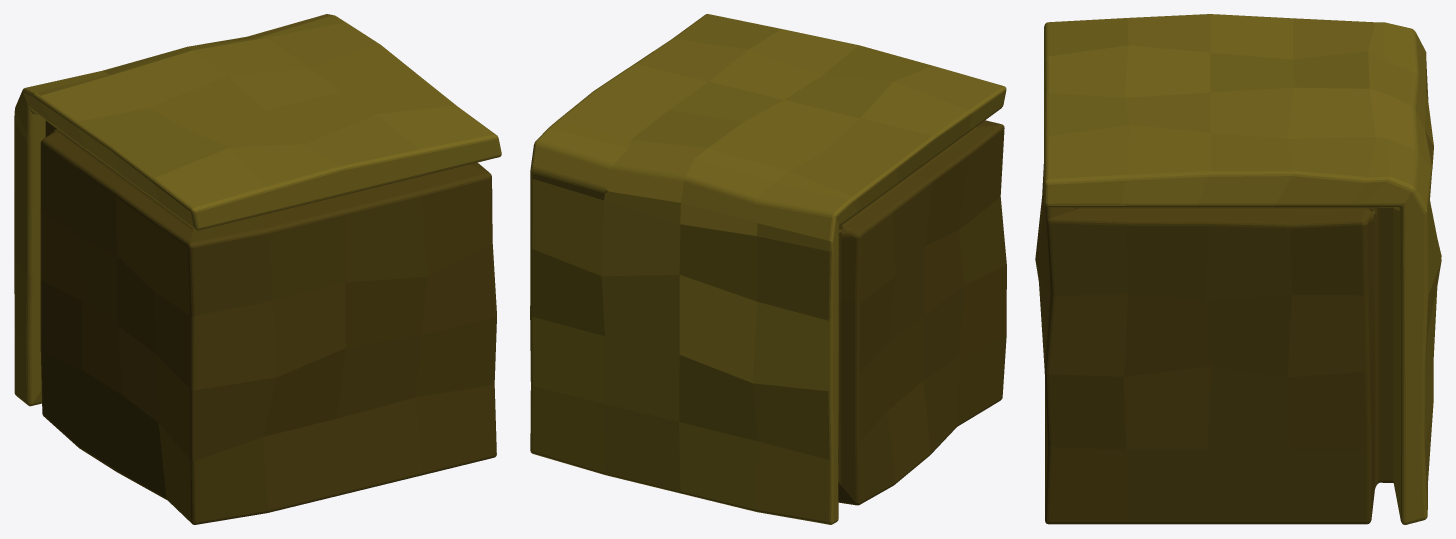
Rendered from Dirt_Edge_001.fbx.
3 views of the same model, side by side, from view 1: azimuth 30°, elevation 25°; view 2: azimuth 150°, elevation 25°; view 3: azimuth 270°, elevation 25° (orthographic). The views are drawn at different scales.
Visible parts, largest first — view 1: Dirt_Edge_001; view 2: Dirt_Edge_001; view 3: Dirt_Edge_001.
Part boxes in pixels (<box>): Dirt_Edge_001: <box>14,14,501,524</box>; Dirt_Edge_001: <box>530,14,1006,524</box>; Dirt_Edge_001: <box>1035,14,1441,524</box>.
Size of the model in its own units: 205 by 211 by 215.
1 material, 1 textured.
